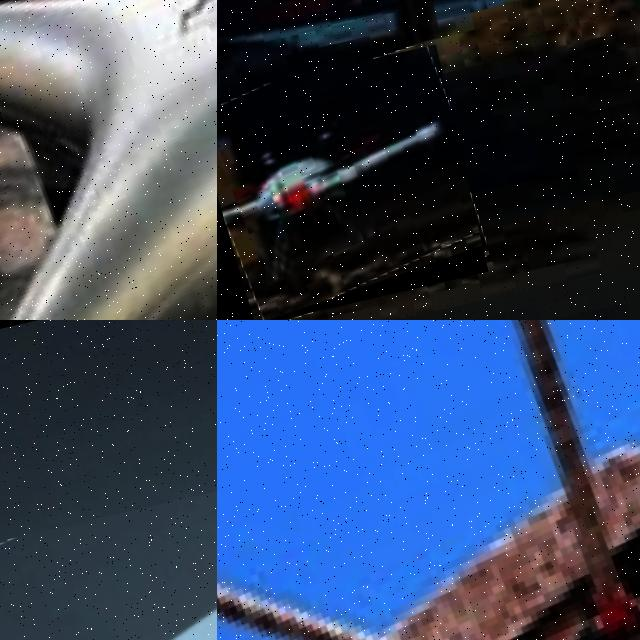drone: (217, 320, 640, 640), (217, 44, 488, 320), (0, 0, 217, 320), (0, 441, 217, 640)
